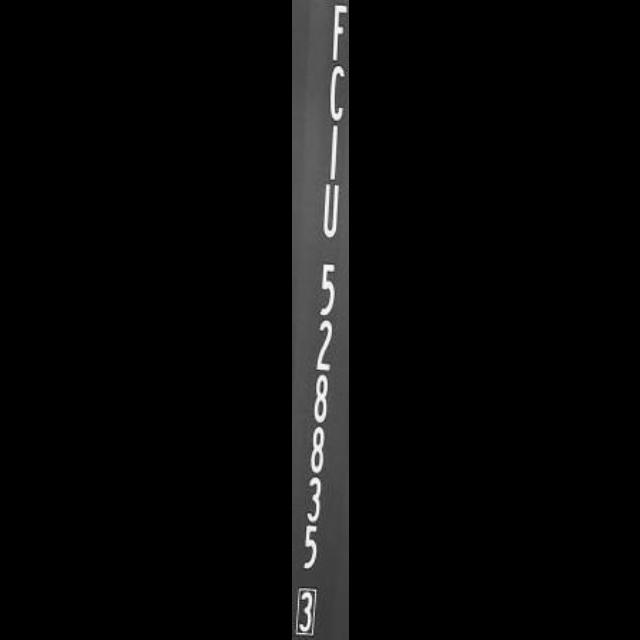2: (310, 318, 340, 372)
3: (292, 586, 328, 640), (301, 474, 329, 524)
5: (310, 260, 342, 320), (297, 523, 327, 575)
8: (304, 371, 338, 424), (305, 425, 333, 475)
c: (316, 62, 348, 126)
f: (316, 0, 348, 64)
i: (314, 124, 348, 182)
u: (314, 182, 348, 238)
